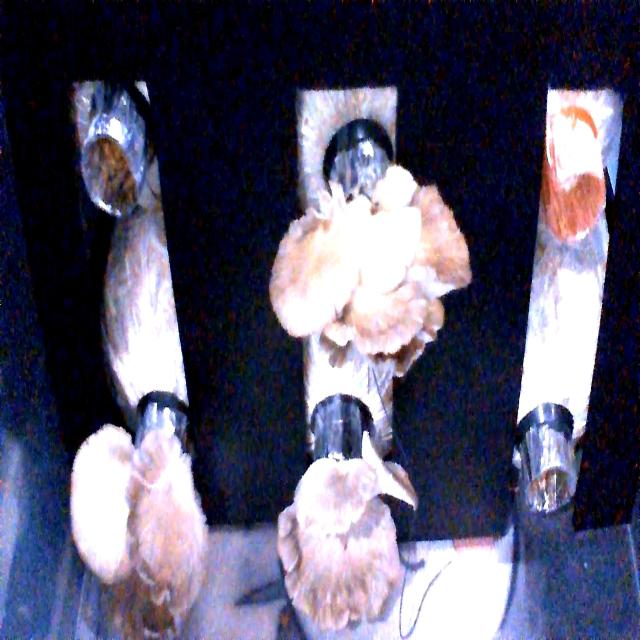big: (282, 208, 443, 344), (79, 432, 199, 598), (280, 469, 404, 610)
nfound: (74, 128, 147, 222), (545, 164, 606, 249), (520, 461, 575, 520)
